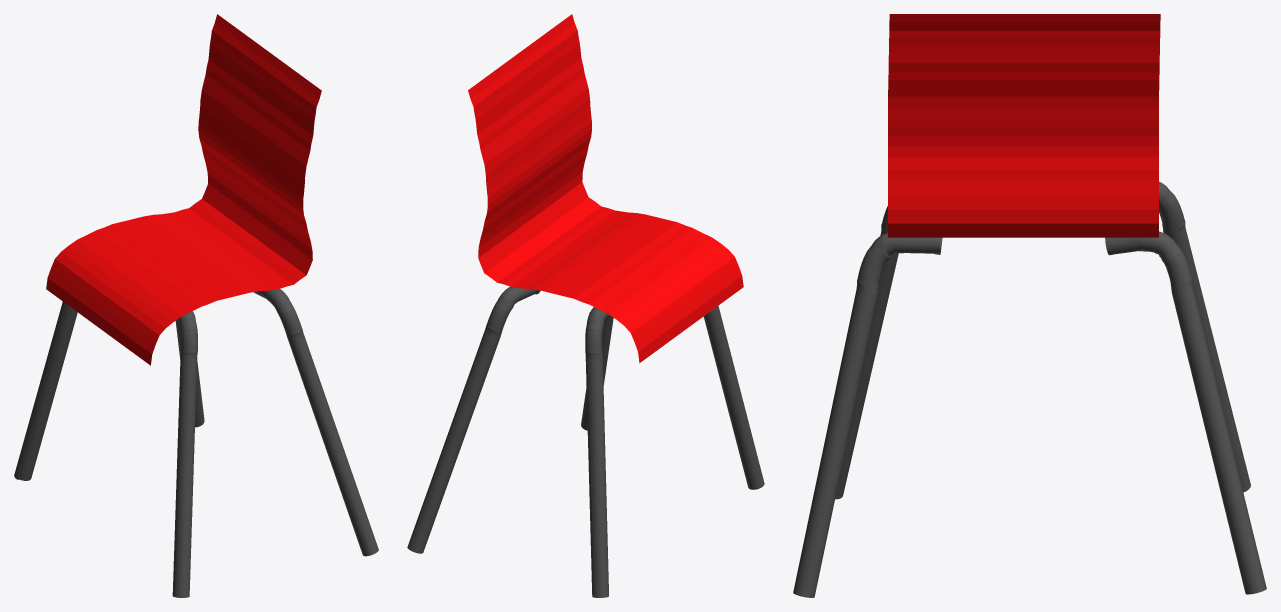
Rendered from stoel_eetzaal_morgbeka.glb.
3 renders of one model, left to right at view 1: azimuth 30°, elevation 25°; view 2: azimuth 150°, elevation 25°; view 3: azimuth 270°, elevation 25°, orthographic. The views are drawn at different scales.
Visible parts, largest first — view 1: stoel, Poot 3, Poot 2, Poot 1, Poot 4; view 2: stoel, Poot 4, Poot 1, Poot 2, Poot 3; view 3: stoel, Poot 3, Poot 4, Poot 1, Poot 2.
Boxes of the visible parts, x1=… form: stoel: x1=46, y1=14, x2=321, y2=365; Poot 3: x1=254, y1=289, x2=378, y2=556; Poot 2: x1=172, y1=311, x2=197, y2=597; Poot 1: x1=14, y1=301, x2=77, y2=480; Poot 4: x1=175, y1=319, x2=204, y2=427; stoel: x1=468, y1=14, x2=743, y2=363; Poot 4: x1=407, y1=286, x2=540, y2=553; Poot 1: x1=585, y1=307, x2=610, y2=597; Poot 2: x1=703, y1=306, x2=764, y2=489; Poot 3: x1=581, y1=316, x2=613, y2=430; stoel: x1=888, y1=14, x2=1160, y2=237; Poot 3: x1=793, y1=232, x2=942, y2=597; Poot 4: x1=1105, y1=231, x2=1266, y2=594; Poot 1: x1=1159, y1=181, x2=1250, y2=492; Poot 2: x1=835, y1=206, x2=898, y2=499.
Bounding box in the file's own units: 0.4078 × 0.9042 × 0.6643.
